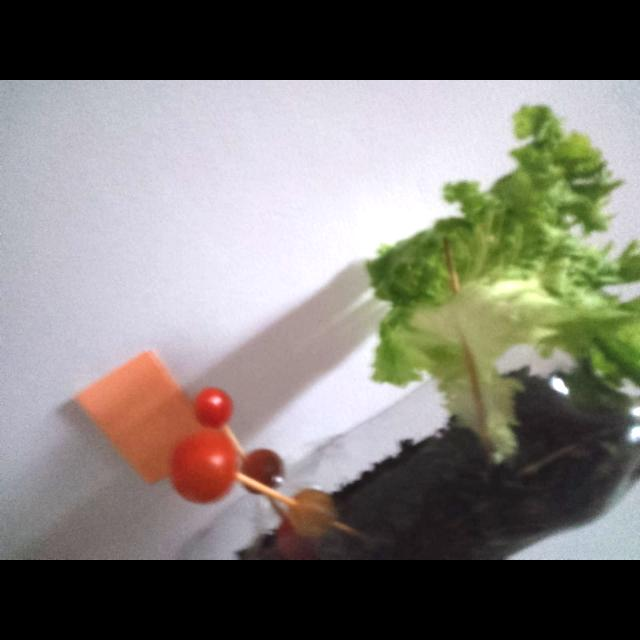card: (76, 351, 202, 483)
fruit_maturation: (287, 489, 337, 537)
fully_grown: (170, 388, 284, 503)
